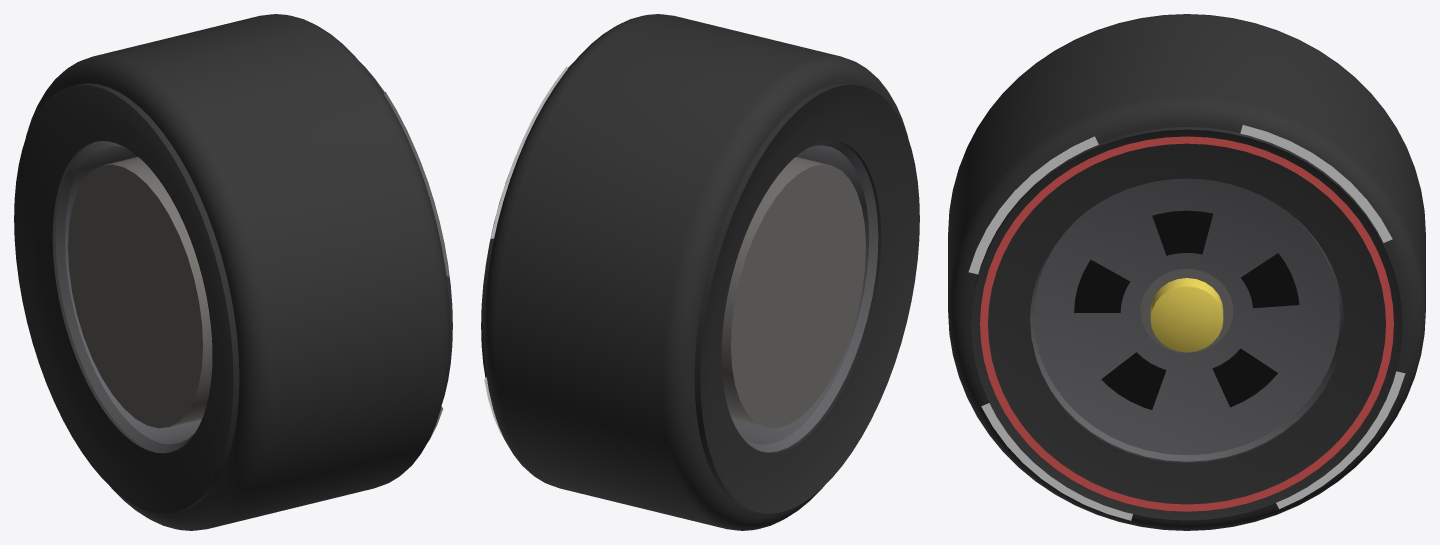
The model's file is f1_2026_wheel_rear.glb.
3 renders of one model, left to right at view 1: azimuth 30°, elevation 25°; view 2: azimuth 150°, elevation 25°; view 3: azimuth 270°, elevation 25°, orthographic.
Visible parts, largest first — view 1: wheel_rear_Tyre, wheel_rear_Brake, wheel_rear_Rim, wheel_rear_TyreText; view 2: wheel_rear_Tyre, wheel_rear_Brake, wheel_rear_Rim, wheel_rear_TyreText; view 3: wheel_rear_Tyre, wheel_rear_Rim, wheel_rear_Inlet, wheel_rear_TyreStripe, wheel_rear_TyreText, wheel_rear_LiveryAccent, wheel_rear_Brake.
Boxes of the visible parts, x1=… form: wheel_rear_Tyre: x1=14, y1=14, x2=452, y2=530; wheel_rear_Brake: x1=68, y1=157, x2=212, y2=428; wheel_rear_Rim: x1=55, y1=141, x2=201, y2=452; wheel_rear_TyreText: x1=384, y1=91, x2=449, y2=441; wheel_rear_Tyre: x1=481, y1=14, x2=919, y2=530; wheel_rear_Brake: x1=721, y1=157, x2=865, y2=428; wheel_rear_Rim: x1=732, y1=141, x2=878, y2=452; wheel_rear_TyreText: x1=484, y1=66, x2=567, y2=444; wheel_rear_Tyre: x1=948, y1=14, x2=1425, y2=530; wheel_rear_Rim: x1=1030, y1=178, x2=1343, y2=461; wheel_rear_Inlet: x1=1074, y1=210, x2=1299, y2=409; wheel_rear_TyreStripe: x1=980, y1=136, x2=1393, y2=511; wheel_rear_TyreText: x1=968, y1=125, x2=1405, y2=520; wheel_rear_LiveryAccent: x1=1150, y1=278, x2=1223, y2=352; wheel_rear_Brake: x1=1140, y1=269, x2=1233, y2=352.
Size of the model in its own units: 0.375 by 0.72 by 0.72.
